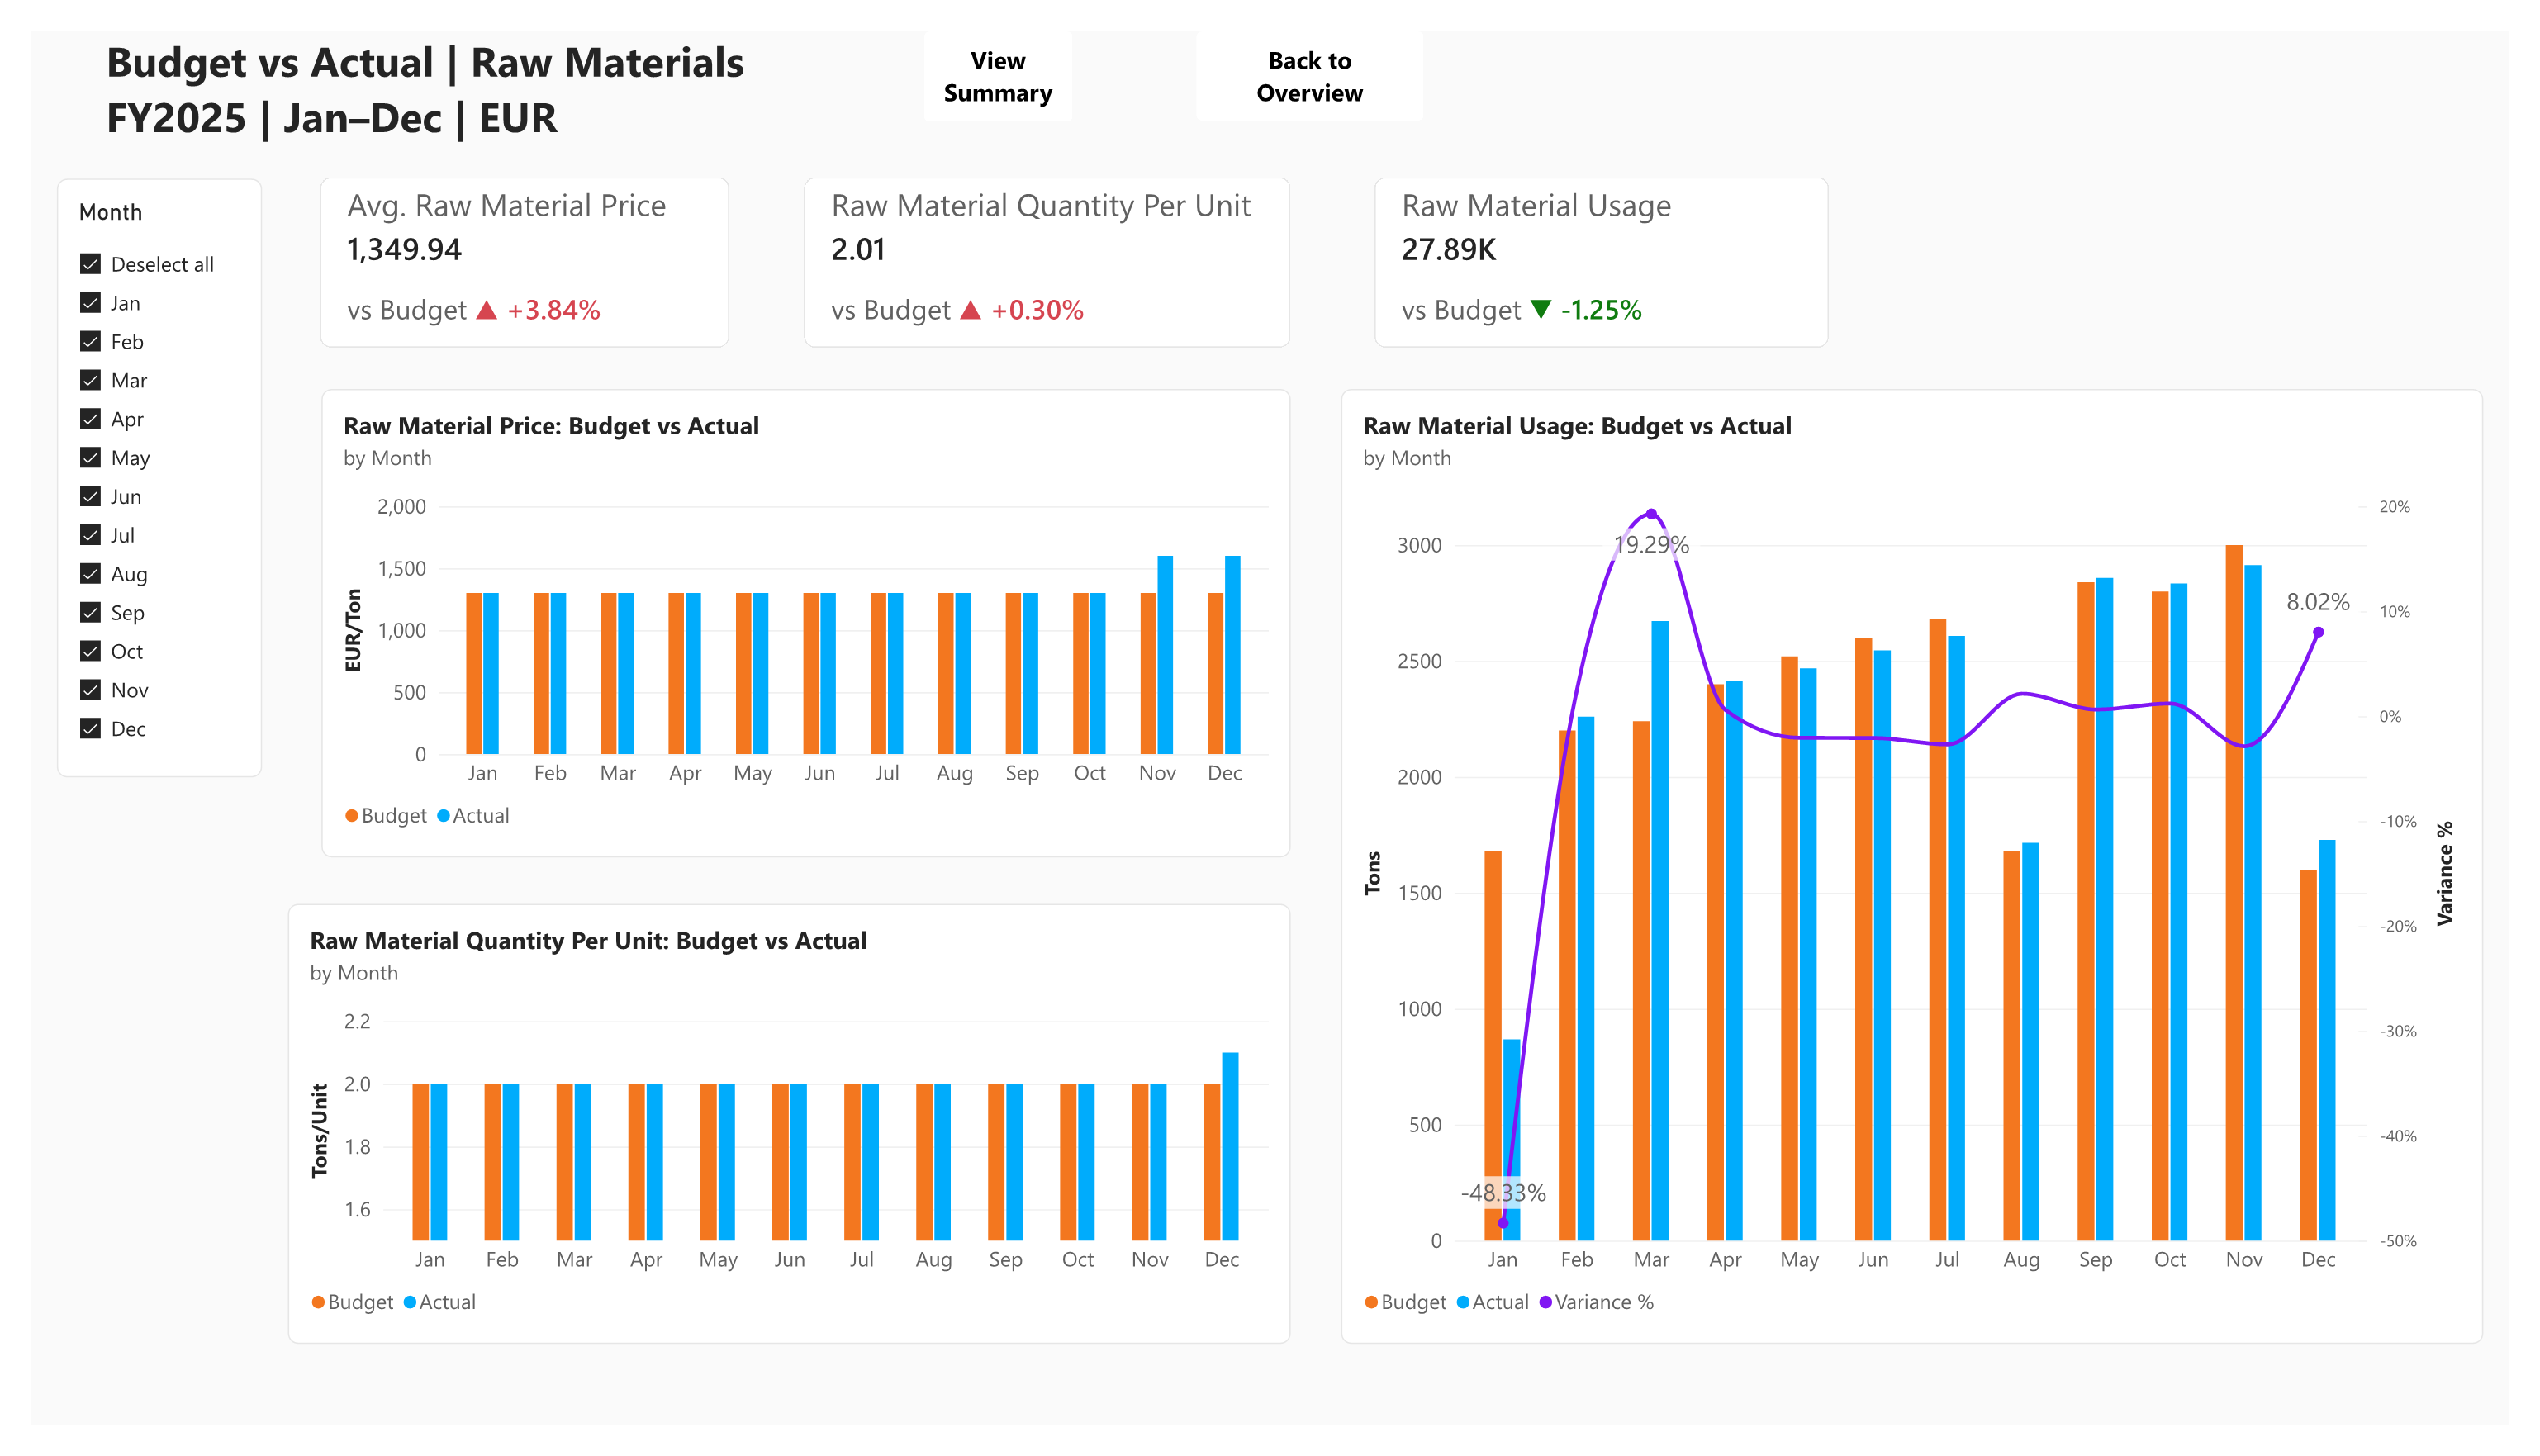

What the dashboard file says about the page in this screenshot:
{"tool":"powerbi","page":{"name":"Raw Materials - Driver Analysis","canvas":[1920,1080],"ordinal":6},"visuals":[{"type":"clusteredColumnChart","title":"Raw Material Price: Budget vs Actual ","fields":{"Category":["Dim_Date.Month"],"Y":["_Measures.Budget RM Price","_Measures.Actual RM Price"]},"box":[224.7,277,751.7,363.2],"z":0},{"type":"clusteredColumnChart","title":"Raw Material Quantity Per Unit: Budget vs Actual","fields":{"Category":["Dim_Date.Month"],"Y":["_Measures.Budget RM TonsPerUnit","_Measures.Actual RM TonsPerUnit"]},"box":[199.3,675.7,777,341.2],"z":1000},{"type":"listSlicer","fields":{"Values":["Dim_Date.MonthName"]},"box":[20,114,159,463.5],"z":2000},{"type":"lineClusteredColumnComboChart","title":"Raw Material Usage: Budget vs Actual","fields":{"Y":["_Measures.Budget RM Quantity","_Measures.Actual RM Quantity"],"Category":["Dim_Date.Month"],"Y2":["_Measures.RM Quantity Variance %","_Measures.RM Quantity Variance % Label Threshold"]},"box":[1015.2,277,885.1,739.9],"z":3000},{"type":"cardVisual","fields":{"Data":["_Measures.Actual RM Quantity"]},"box":[1040.9,93.1,351.6,171.7],"z":4000},{"type":"cardVisual","fields":{"Data":["_Measures.Actual RM TonsPerUnit"]},"box":[598.6,93.1,377.3,171.7],"z":5000},{"type":"cardVisual","fields":{"Data":["_Measures.Actual RM Price"]},"box":[224.5,93.1,316.4,171.7],"z":6000},{"type":"actionButton","box":[902.9,0,176.5,69.4],"z":7000},{"type":"actionButton","box":[691.7,0,115.7,70],"z":8000},{"type":"textbox","box":[58.2,0,540.4,104.8],"z":9000}]}

Visuals, with their boxes on the page's 1920x1080 design canvas (x1, y1, x2, y2). These are canvas units, not pixel positions in the 2540x1456 screenshot, which may show the page scaled, cropped or inside an application window:
"Raw Material Price: Budget vs Actual " clusteredColumnChart: {"left": 225, "top": 277, "right": 976, "bottom": 640}
"Raw Material Quantity Per Unit: Budget vs Actual" clusteredColumnChart: {"left": 199, "top": 676, "right": 976, "bottom": 1017}
listSlicer - Dim_Date.MonthName: {"left": 20, "top": 114, "right": 179, "bottom": 578}
"Raw Material Usage: Budget vs Actual" lineClusteredColumnComboChart: {"left": 1015, "top": 277, "right": 1900, "bottom": 1017}
cardVisual - _Measures.Actual RM Quantity: {"left": 1041, "top": 93, "right": 1392, "bottom": 265}
cardVisual - _Measures.Actual RM TonsPerUnit: {"left": 599, "top": 93, "right": 976, "bottom": 265}
cardVisual - _Measures.Actual RM Price: {"left": 224, "top": 93, "right": 541, "bottom": 265}
actionButton: {"left": 903, "top": 0, "right": 1079, "bottom": 69}
actionButton: {"left": 692, "top": 0, "right": 807, "bottom": 70}
textbox: {"left": 58, "top": 0, "right": 599, "bottom": 105}
